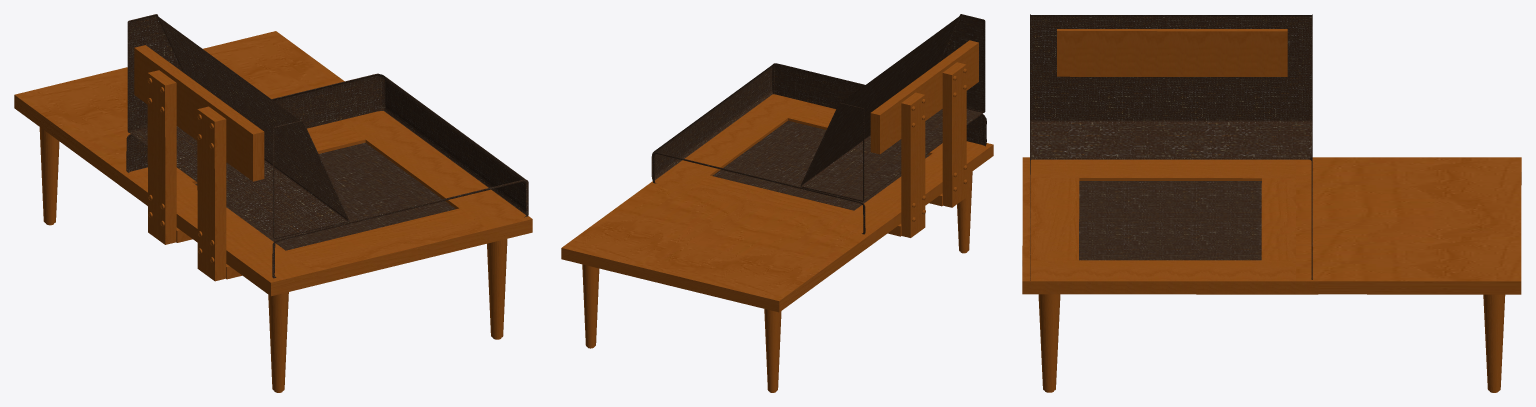
The model's file is vista1git.glb.
The picture shows the model from 3 angles, left to right: view 1: azimuth 30°, elevation 25°; view 2: azimuth 150°, elevation 25°; view 3: azimuth 270°, elevation 25°; orthographic projection. The views are drawn at different scales.
Visible parts, largest first — view 1: Cylinder.068, Cylinder.005; view 2: Cylinder.068, Cylinder.005; view 3: Cylinder.068, Cylinder.005.
Part boxes in pixels (x1=…): Cylinder.068: x1=14, y1=31, x2=532, y2=392; Cylinder.005: x1=126, y1=14, x2=528, y2=278; Cylinder.068: x1=561, y1=40, x2=993, y2=392; Cylinder.005: x1=651, y1=14, x2=986, y2=234; Cylinder.068: x1=1022, y1=29, x2=1521, y2=392; Cylinder.005: x1=1030, y1=14, x2=1312, y2=280.
Size of the model in its own units: 0.8023 by 0.7618 by 1.29.
Materials: 2 (2 with a texture image).
